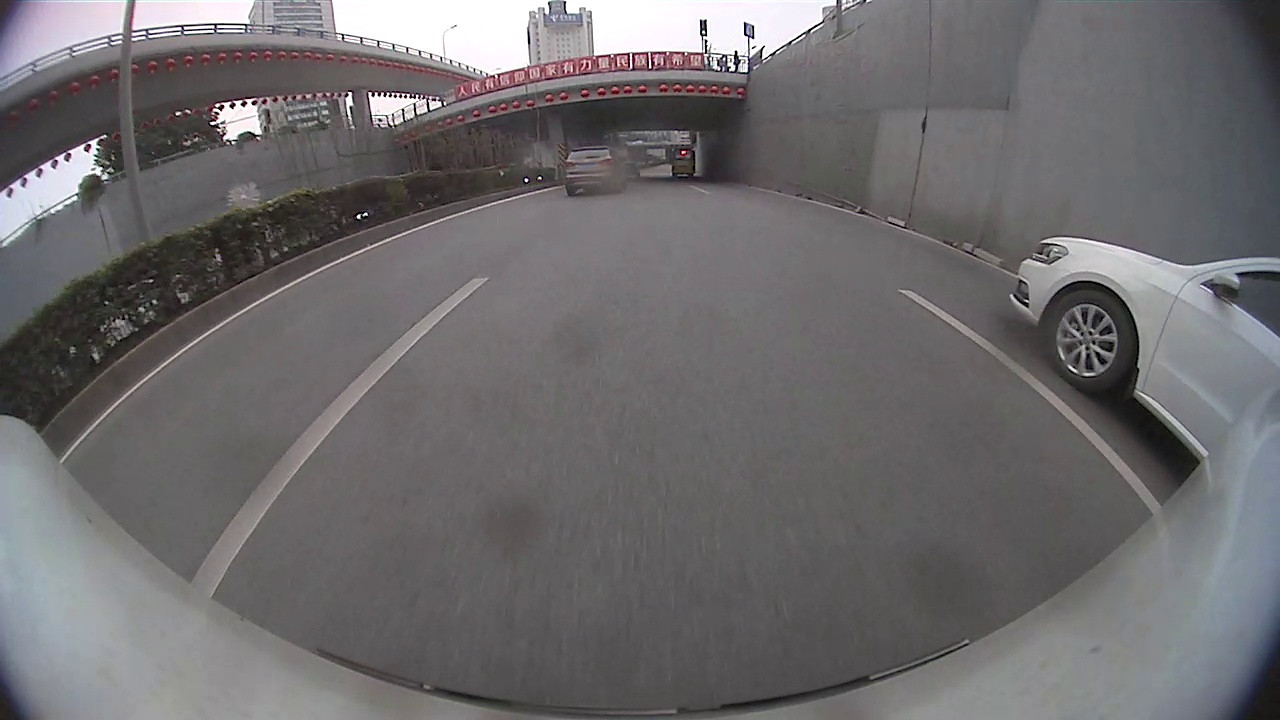car: (1008, 234, 1279, 463), (561, 142, 629, 198)
front: (1042, 290, 1137, 397)
